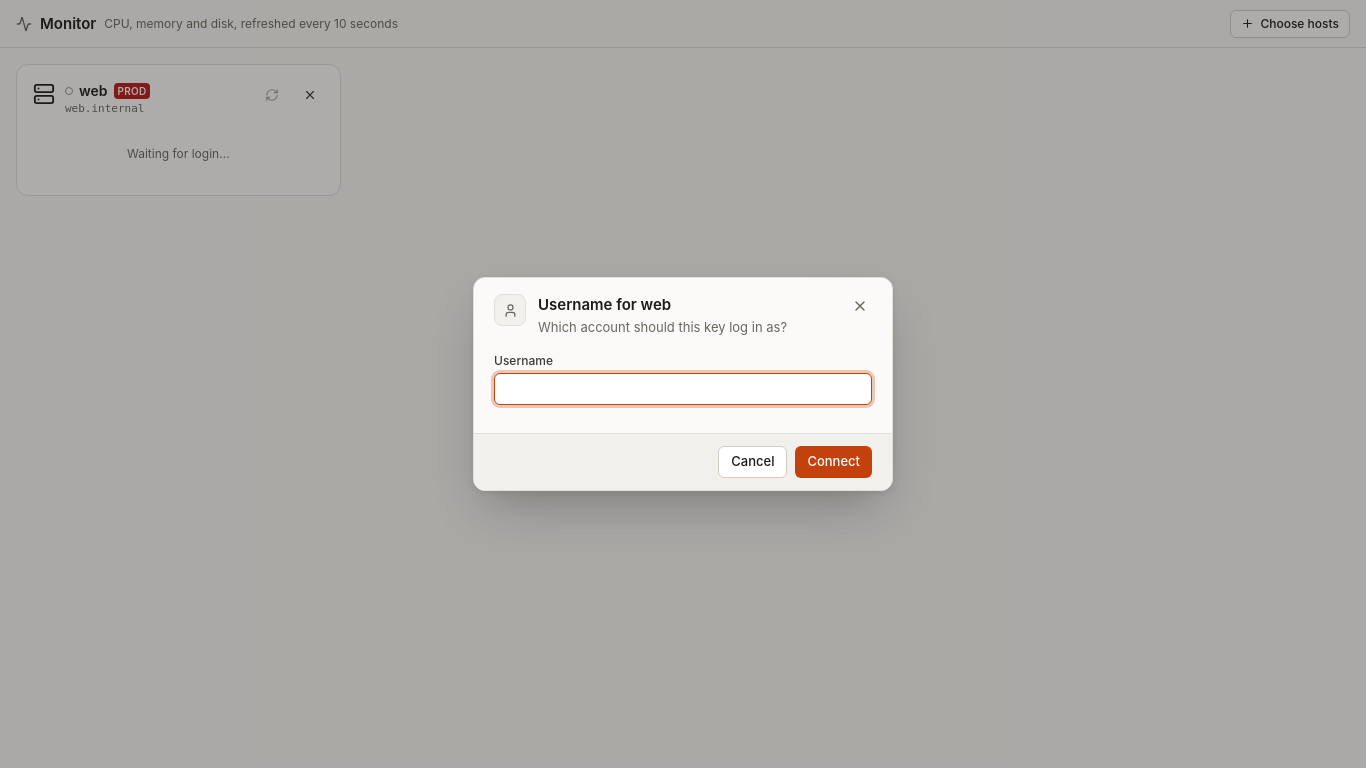
Scenario: MonitorView › offers Log in after a cancelled prompt and Try again after a failure
The image size is (1366, 768).
Click the button "Cancel".
click(753, 462)  # box 718,446 -> 788,478
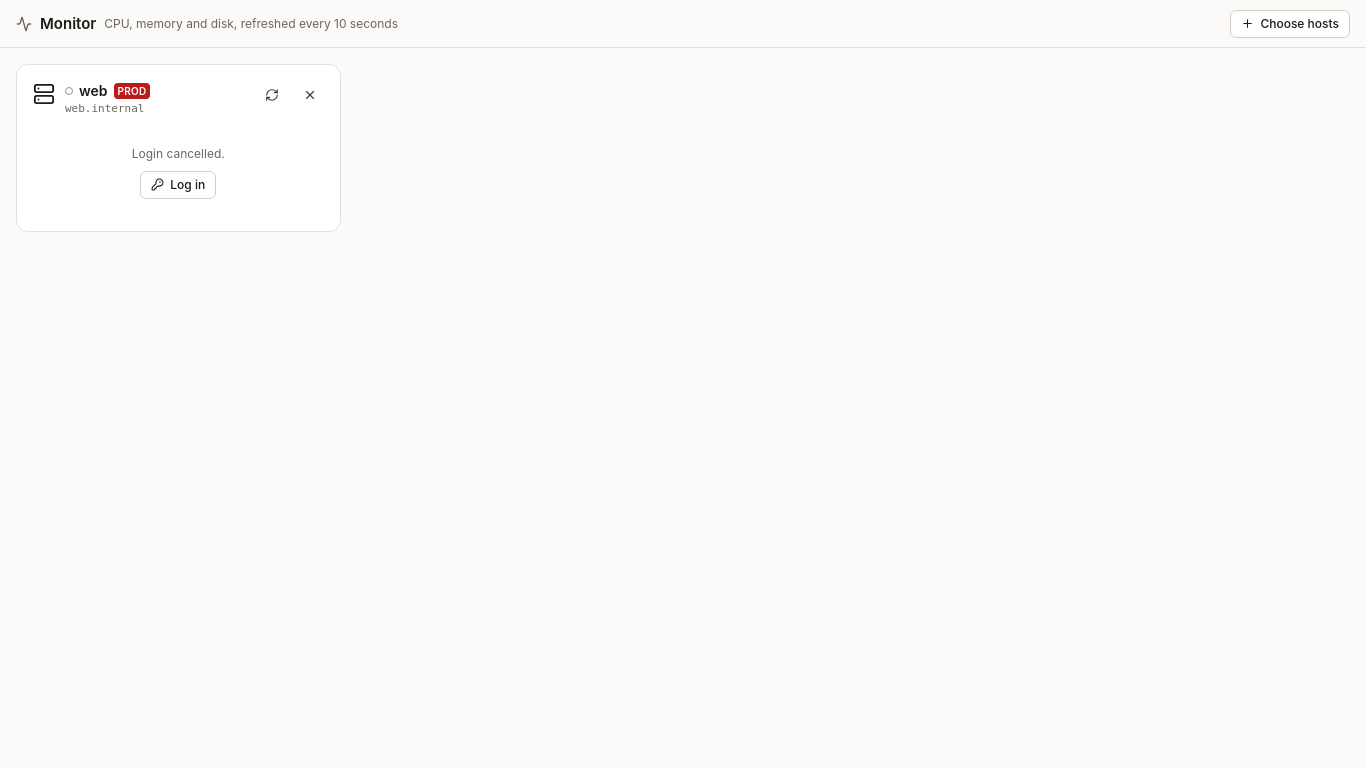
Click the button "Log in".
click(178, 185)  # box 140,171 -> 216,199
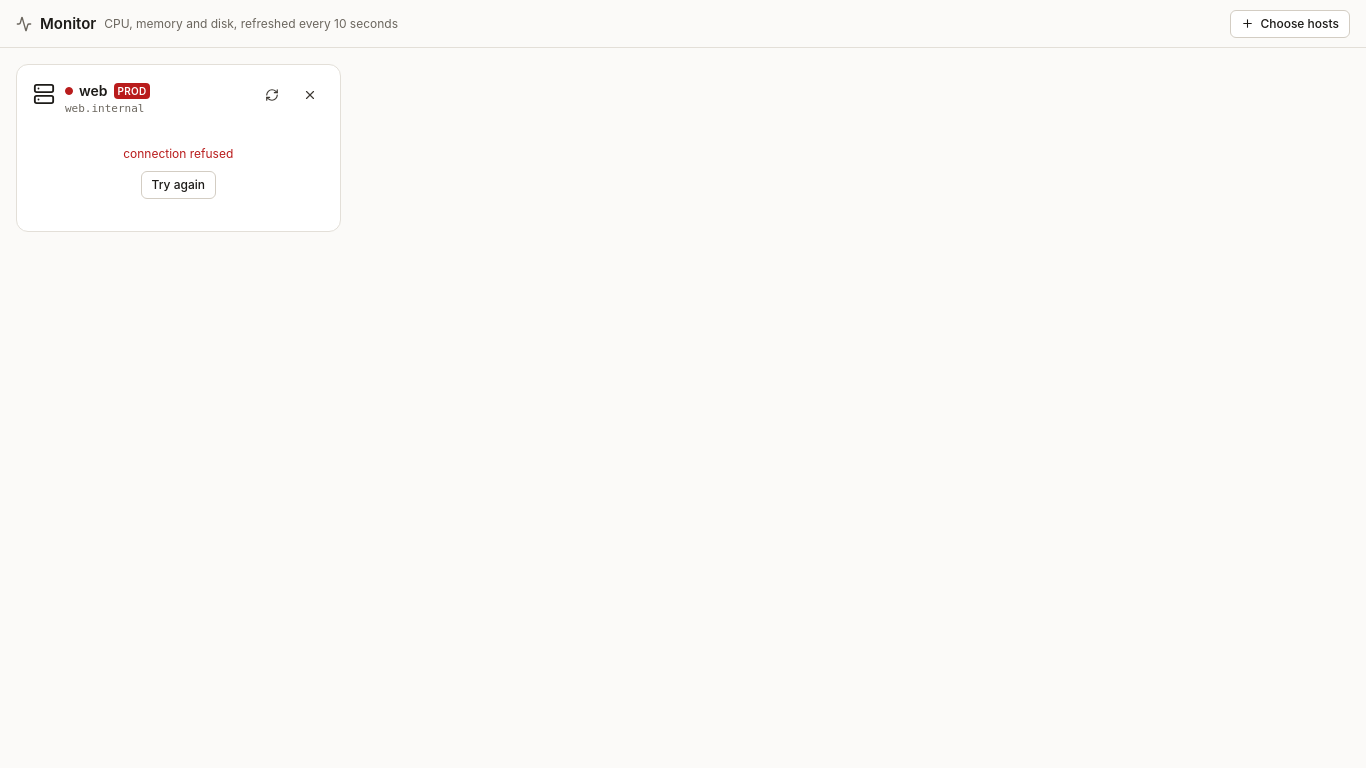
Result: the message shows "connection refused" at 123,146 -> 233,161
Click the button "Try again".
click(178, 185)  # box 140,171 -> 216,199
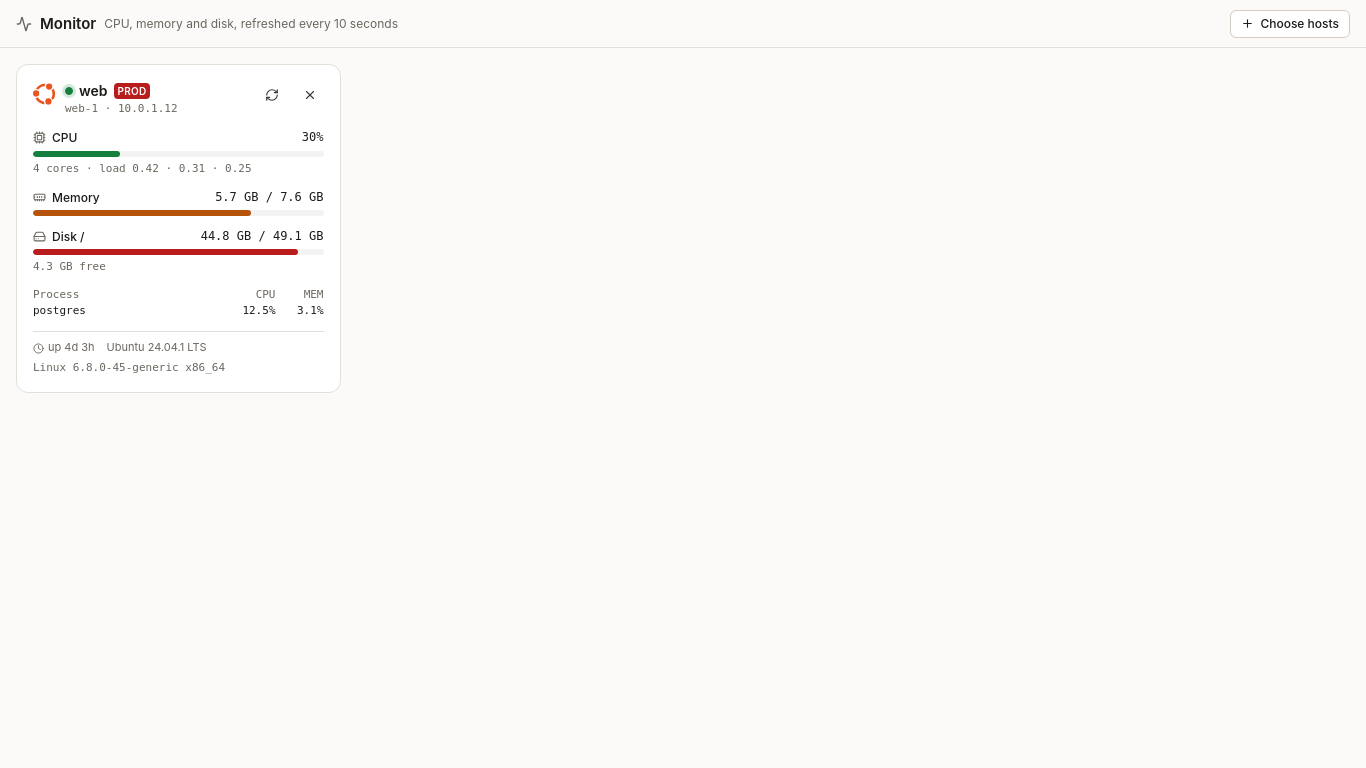
Result: the text "web-1 · 10.0.1.12" is shown at 65,102 -> 178,115
